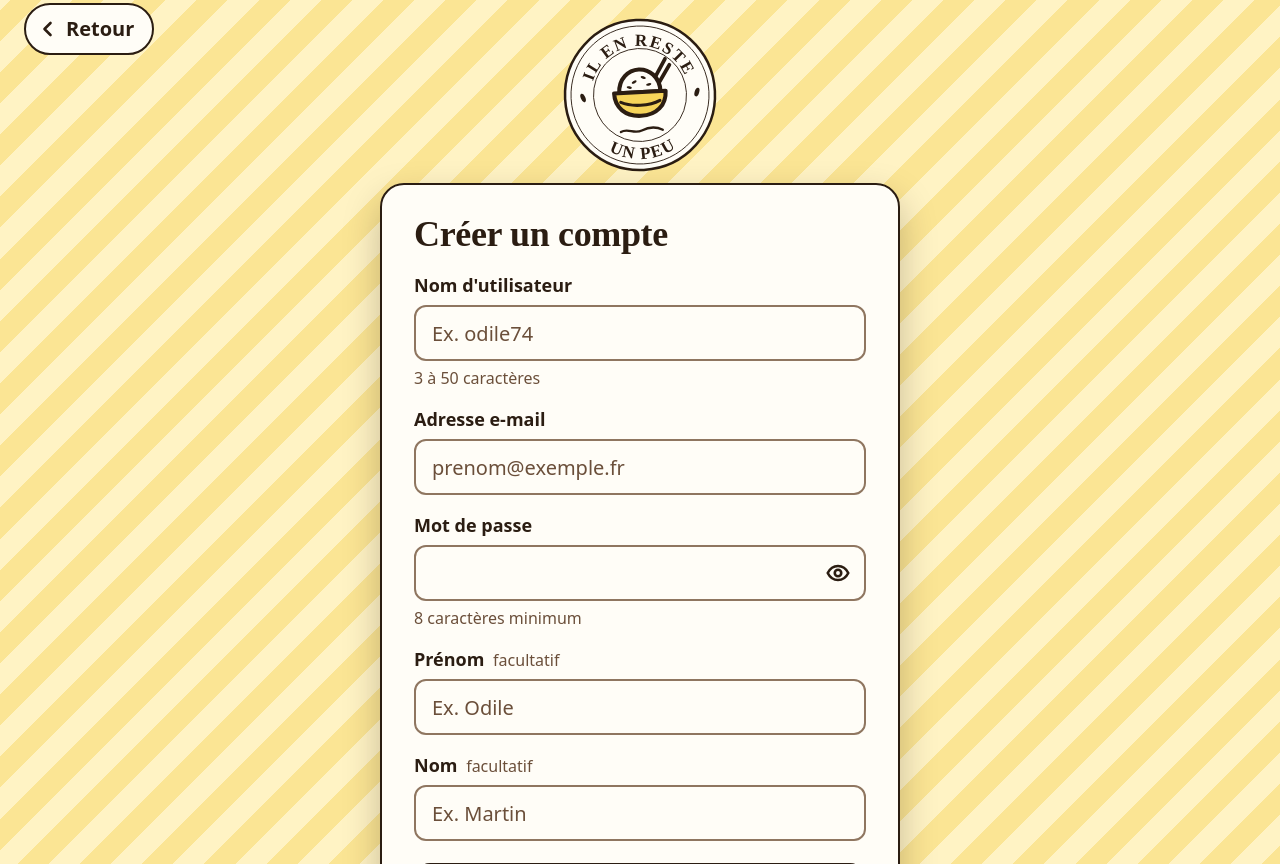
it: RegisterScreen › what is checked before asking the server › asks for at least 3 characters in the username
This screenshot has width=1280, height=864.
Type "od" into the field labelled "Nom d'utilisateur" at {"x": 640, "y": 333}, box [414, 305, 866, 361]
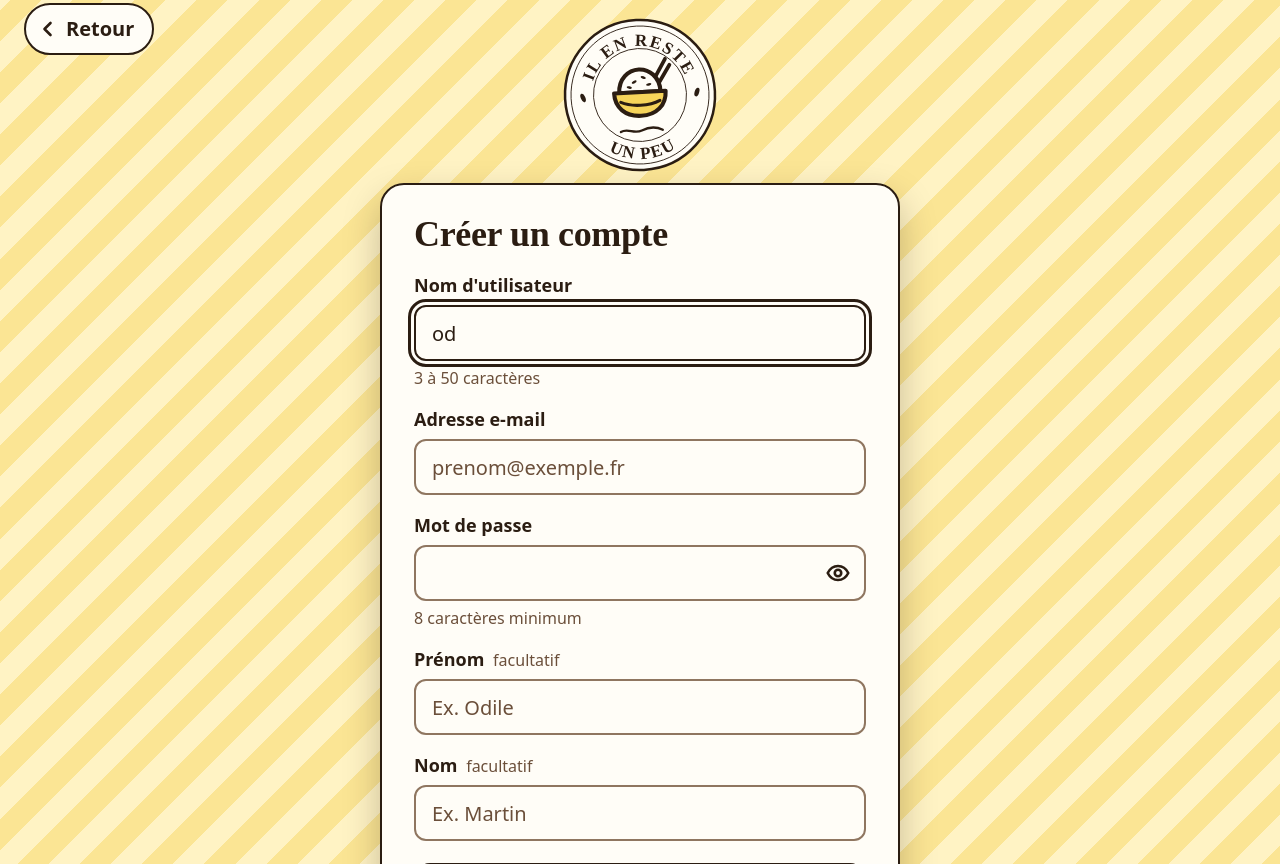
Type "odile@exemple.fr" into the field labelled "Adresse e-mail" at {"x": 640, "y": 467}, box [414, 439, 866, 495]
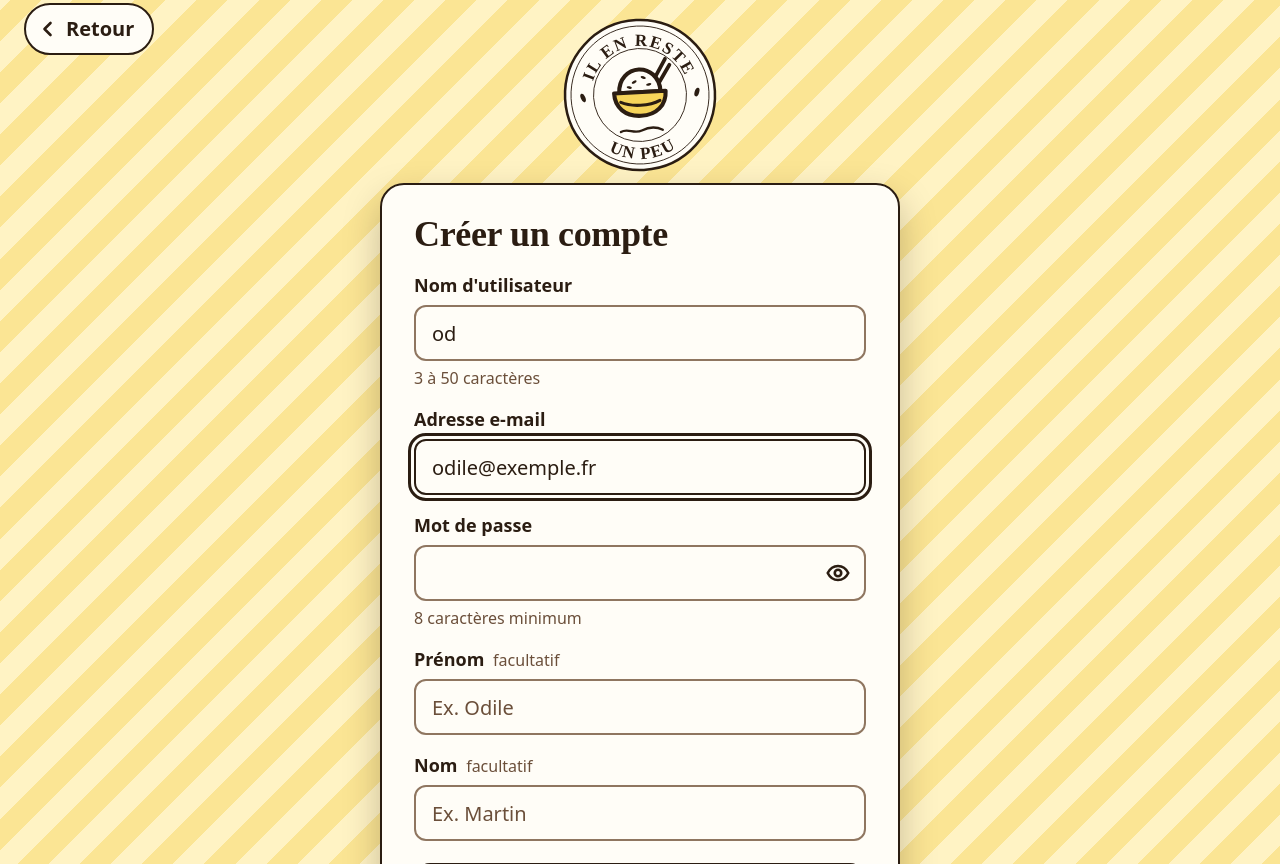
Type "motdepasse" into the password field labelled "Mot de passe" at {"x": 640, "y": 573}, box [414, 545, 866, 601]
(page scrolled)
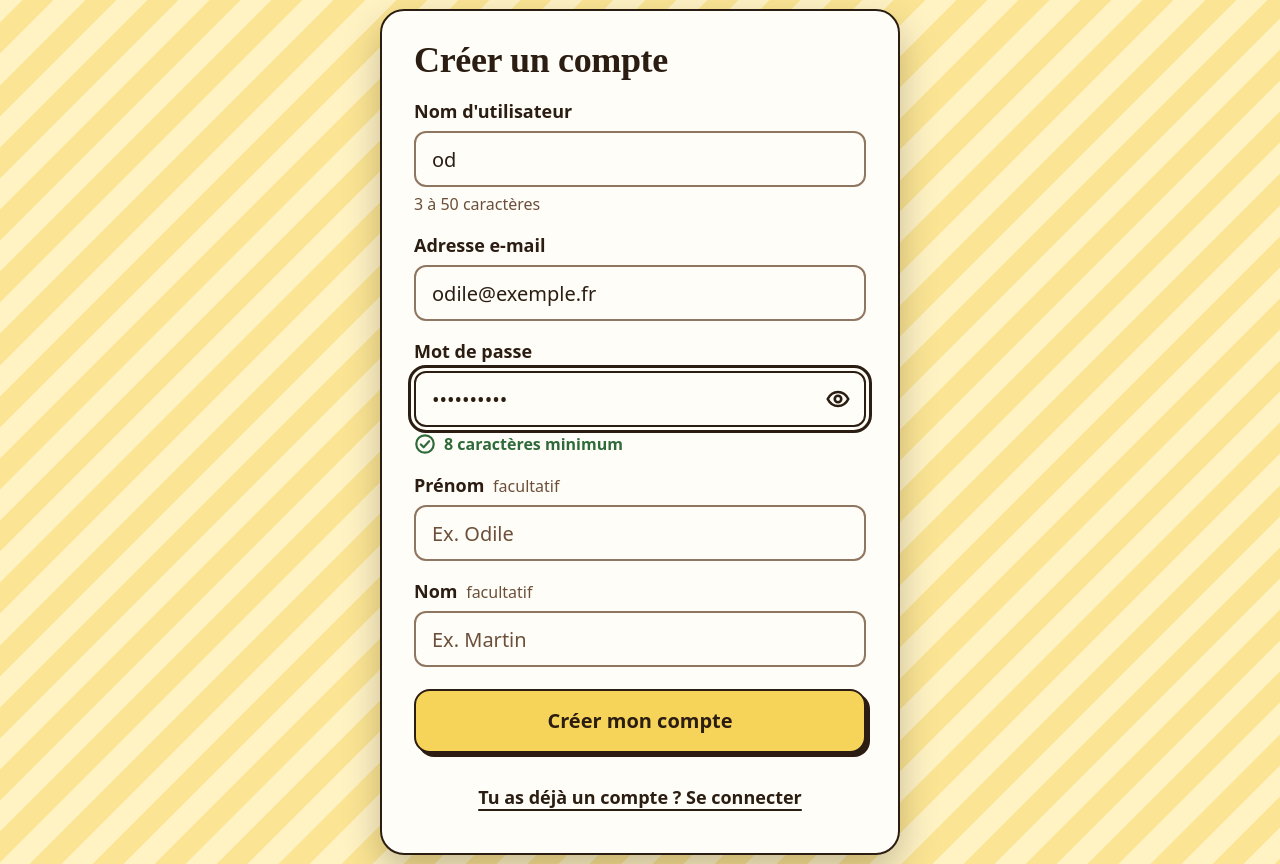
Click the button "Créer mon compte" at {"x": 640, "y": 721}, box [414, 689, 866, 753]
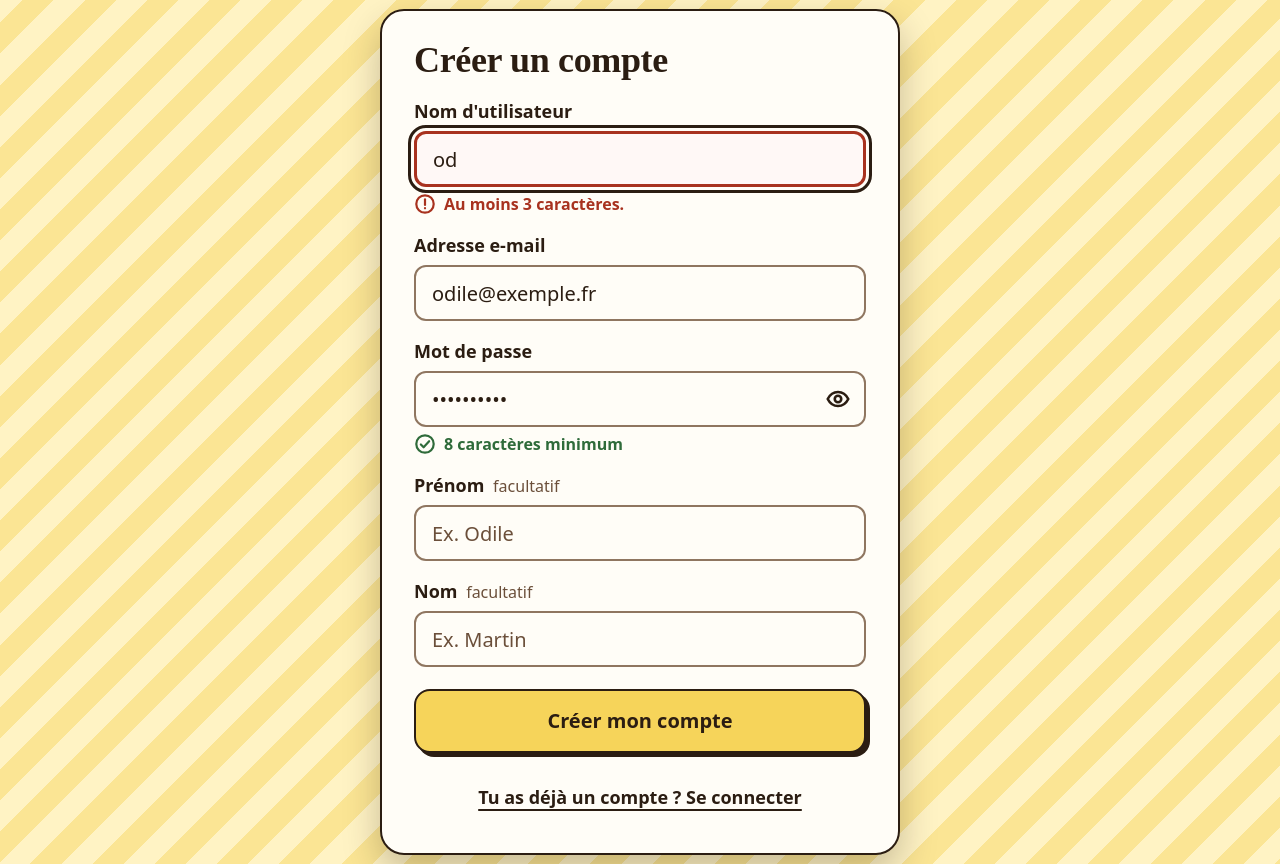
Expected: the text "Au moins 3 caractères." is shown, [414, 193, 624, 215]
